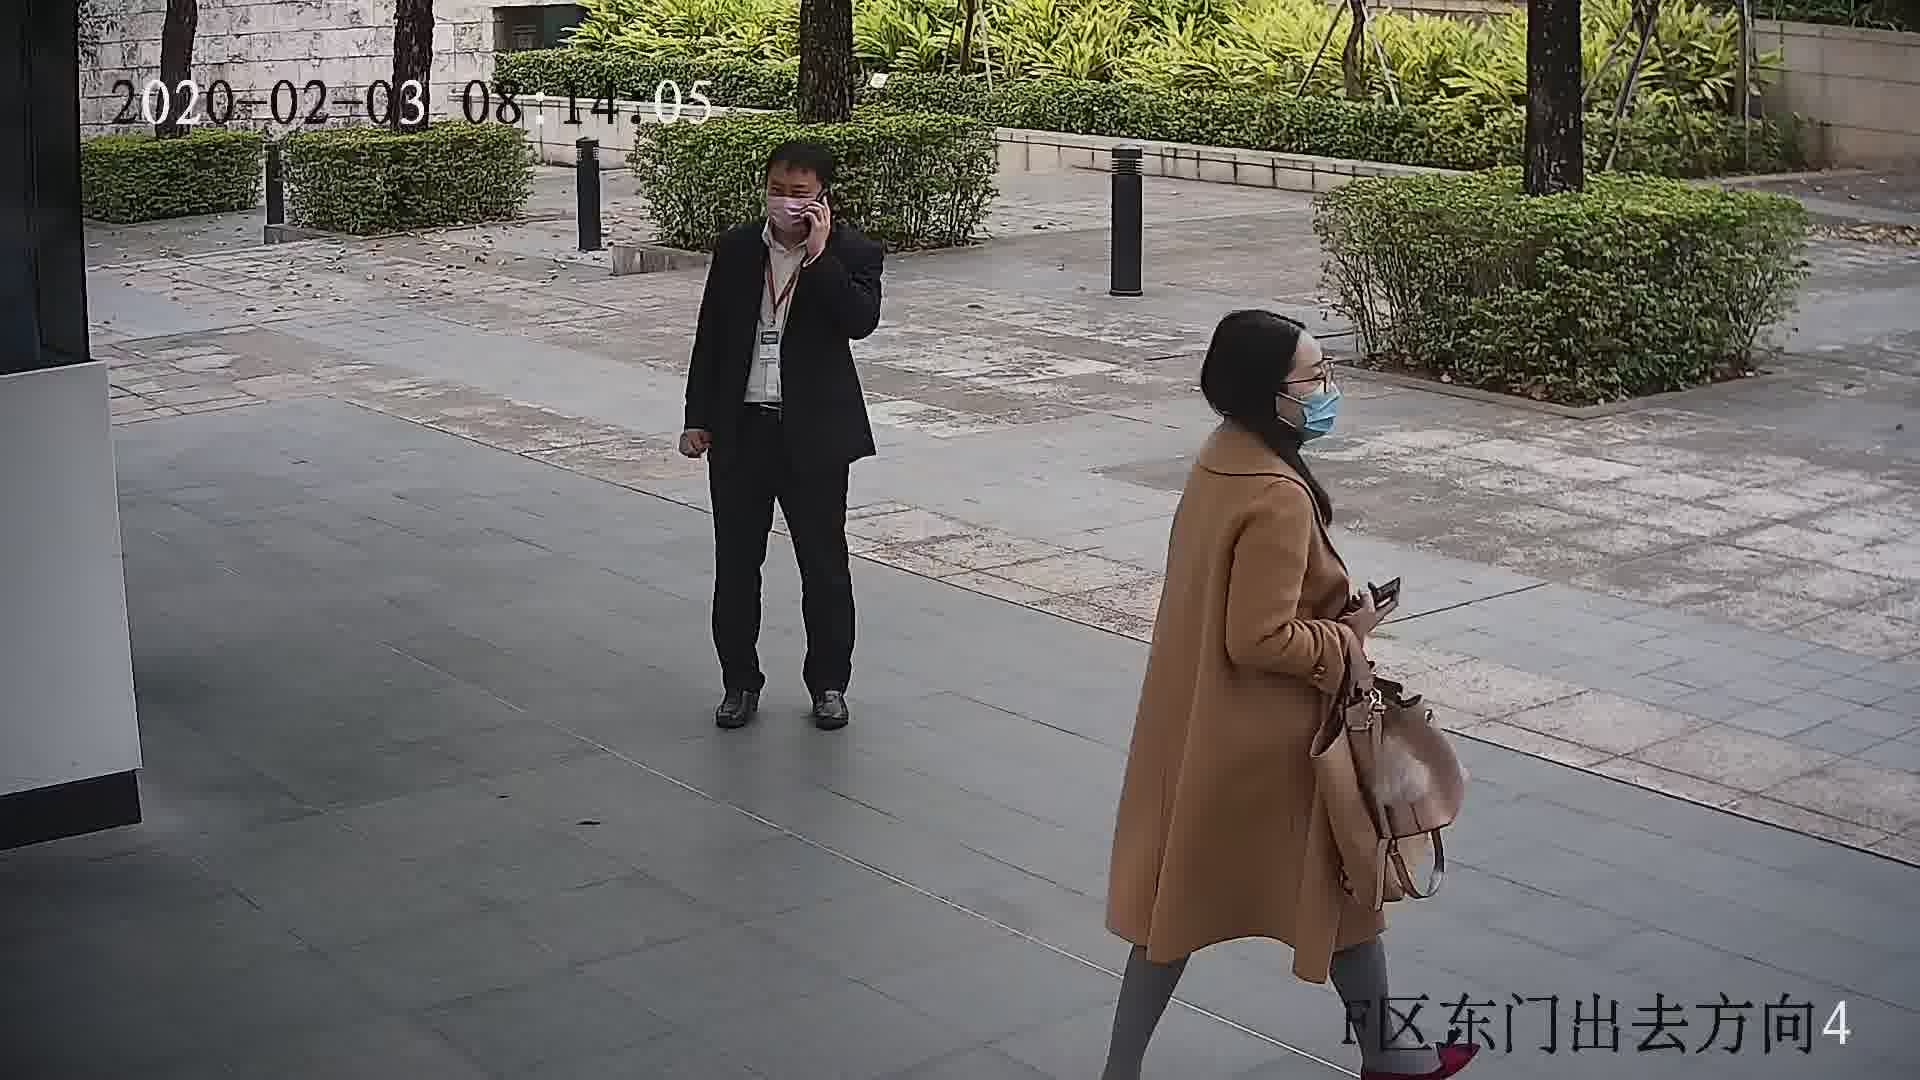face: (1261, 316, 1344, 440), (756, 157, 828, 235)
mask: (1289, 378, 1344, 437), (763, 190, 821, 235)
person: (1177, 304, 1345, 547), (716, 141, 881, 284)
